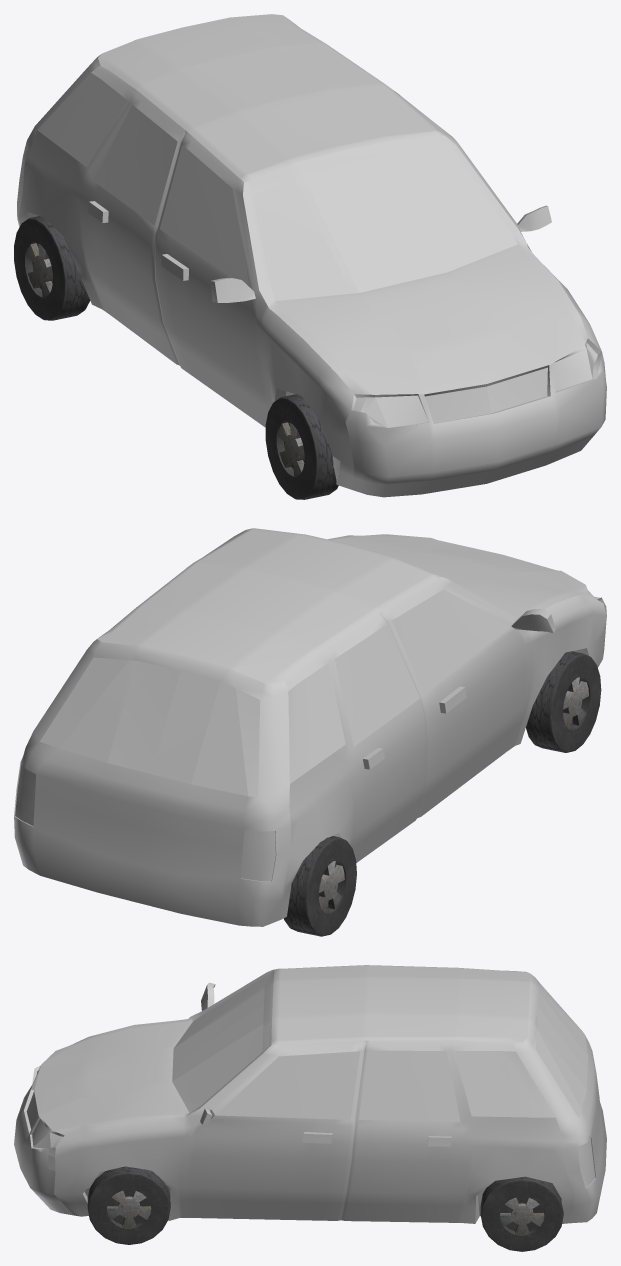
The model's file is CivilianVehicle.fbx.
The picture shows the model from 3 angles, top to bottom: view 1: azimuth 30°, elevation 25°; view 2: azimuth 150°, elevation 25°; view 3: azimuth 270°, elevation 25°; orthographic projection. The views are drawn at different scales.
Visible parts, largest first — view 1: Tire9; view 2: Tire9; view 3: Tire9.
Part boxes in pixels (x1,y1,x2,y2): Tire9: (14, 14, 606, 499); Tire9: (14, 528, 606, 936); Tire9: (14, 965, 606, 1251).
Size of the model in its own units: 6.61 by 4.83 by 12.86.
